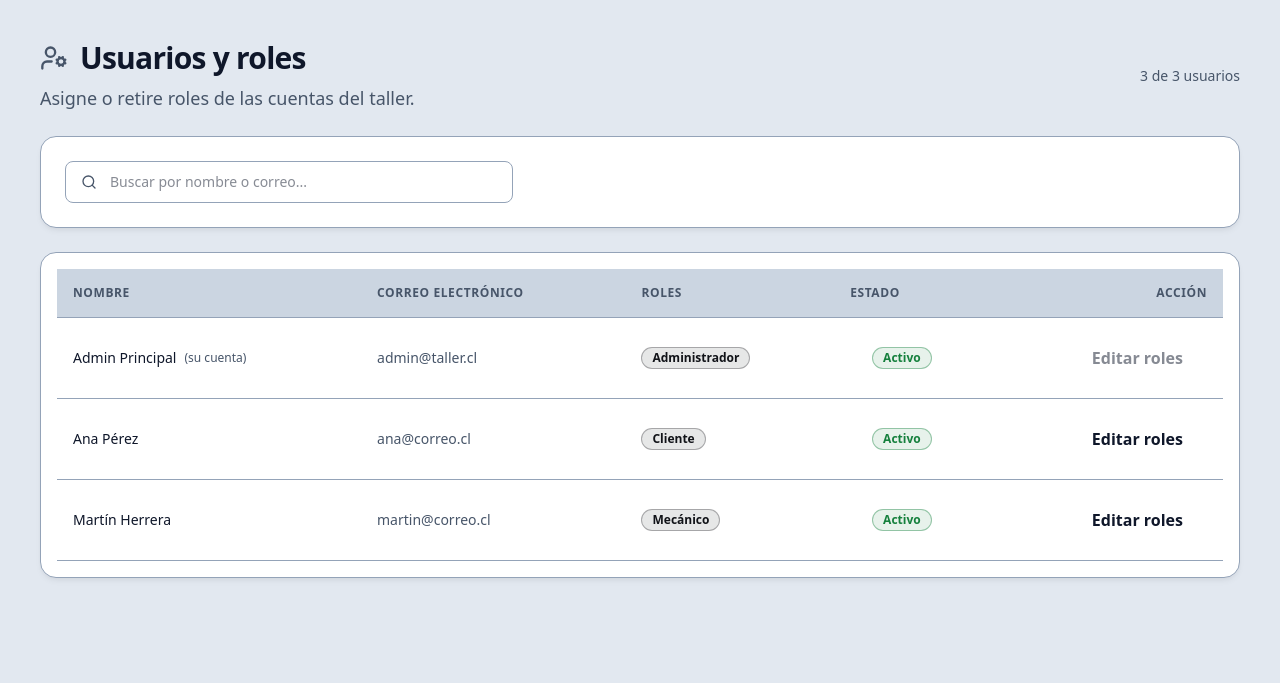
Scenario: AdminUsersPage: gestión de roles de las cuentas › asigna y retira roles con los endpoints idempotentes y refleja la respuesta
The width and height of the screenshot is (1280, 683).
Check: the text "Ana Pérez" is shown, box [73,429,138,448]
Click the button "Editar roles" in the row of "Ana Pérez" at x=1137, y=439, box [1068,415,1207,463]
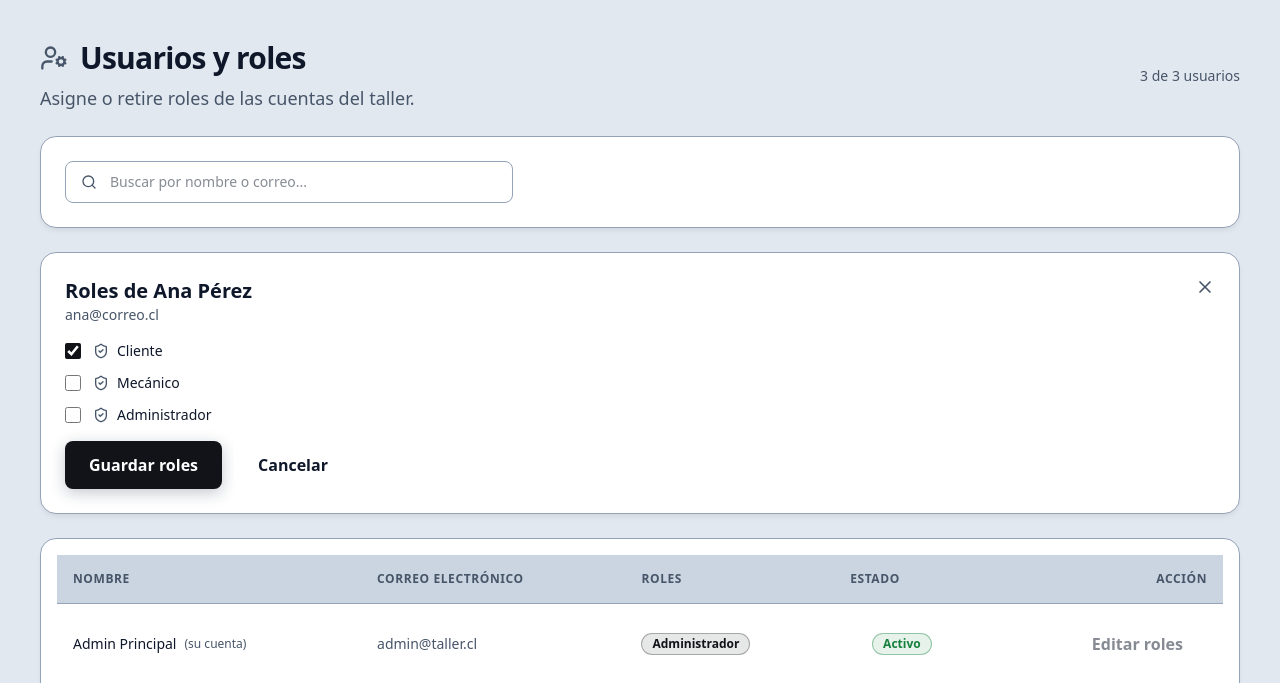
Check: the heading "Roles de Ana Pérez" is shown, box [65,277,252,305]
Click the checkbox labelled "Cliente" at x=73, y=351, box [65,343,81,359]
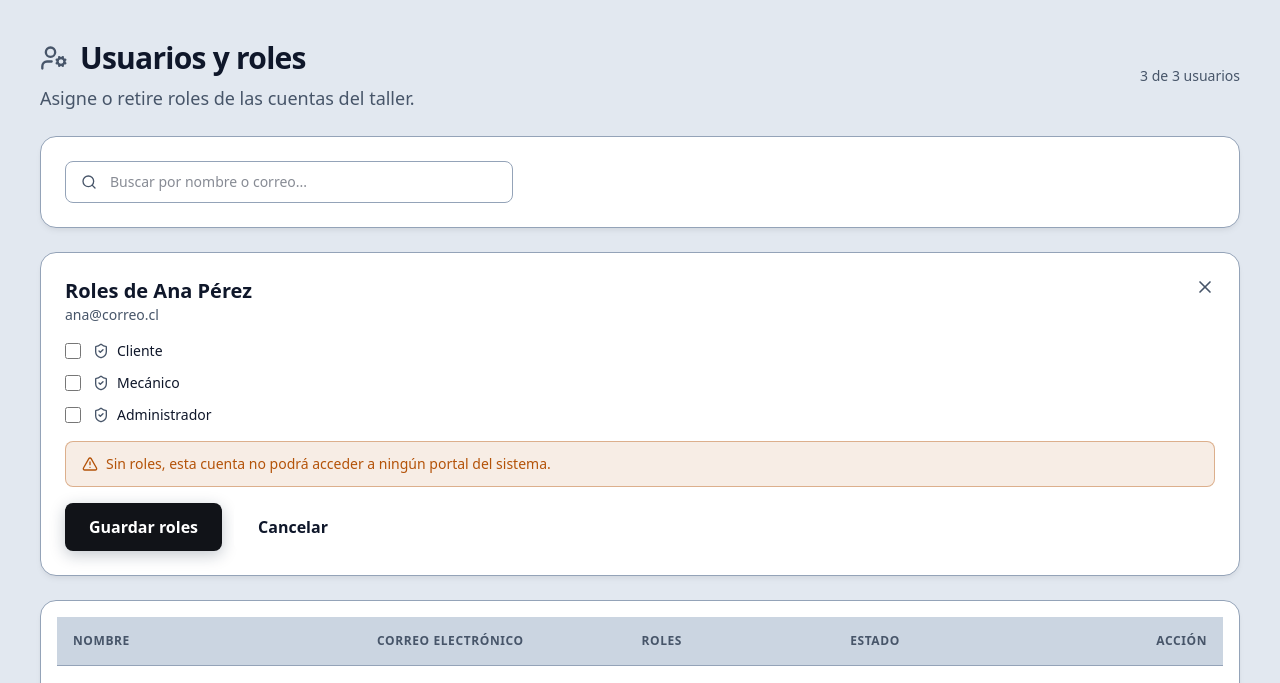
Click the checkbox labelled "Mecánico" at x=73, y=383, box [65,375,81,391]
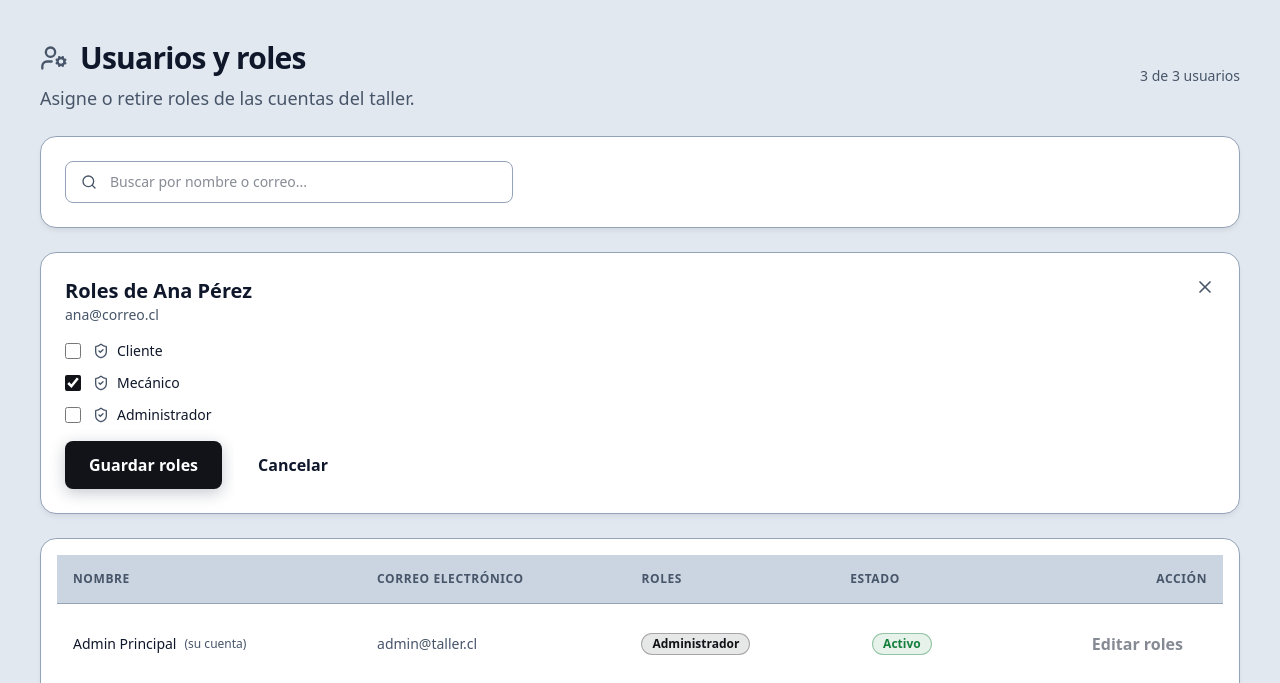
Click the button "Guardar roles" at x=144, y=465, box [65,441,222,489]
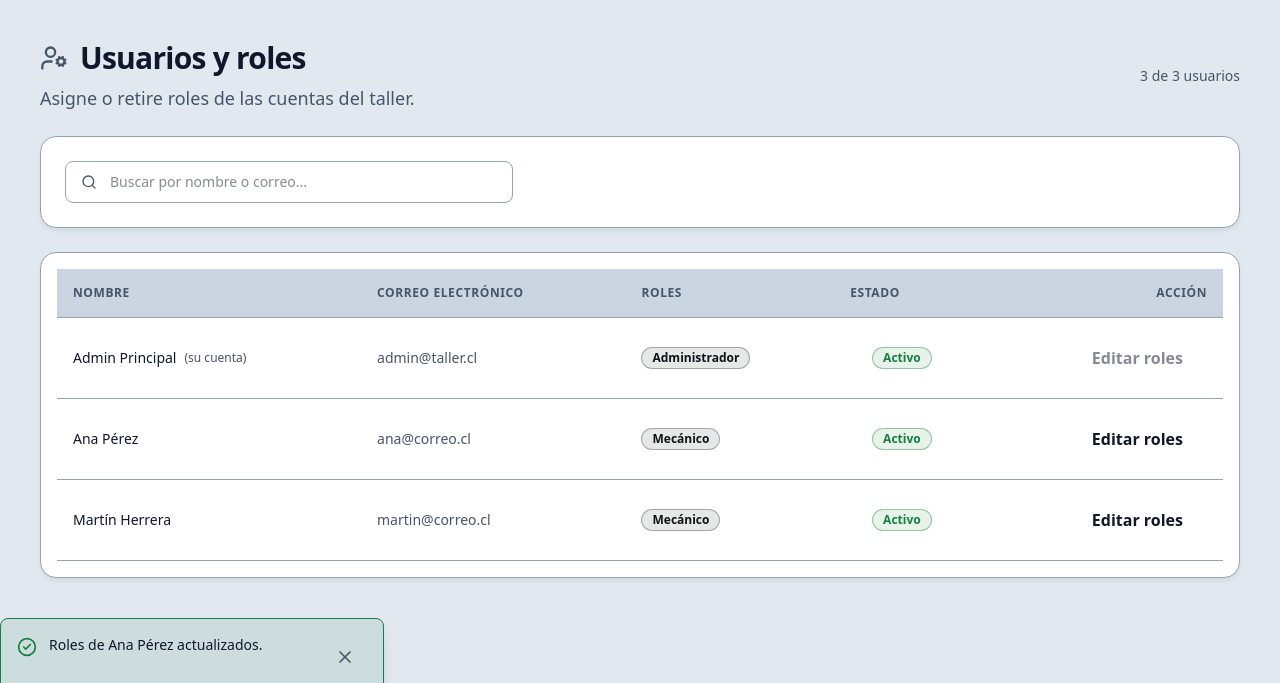
Check: the text "Roles de Ana Pérez actualizados." is shown, box [49,635,262,654]
Check: the text "Mecánico" in the row of "ana@correo.cl" is shown, box [652,430,710,447]
Check: the text "Cliente" is gone
